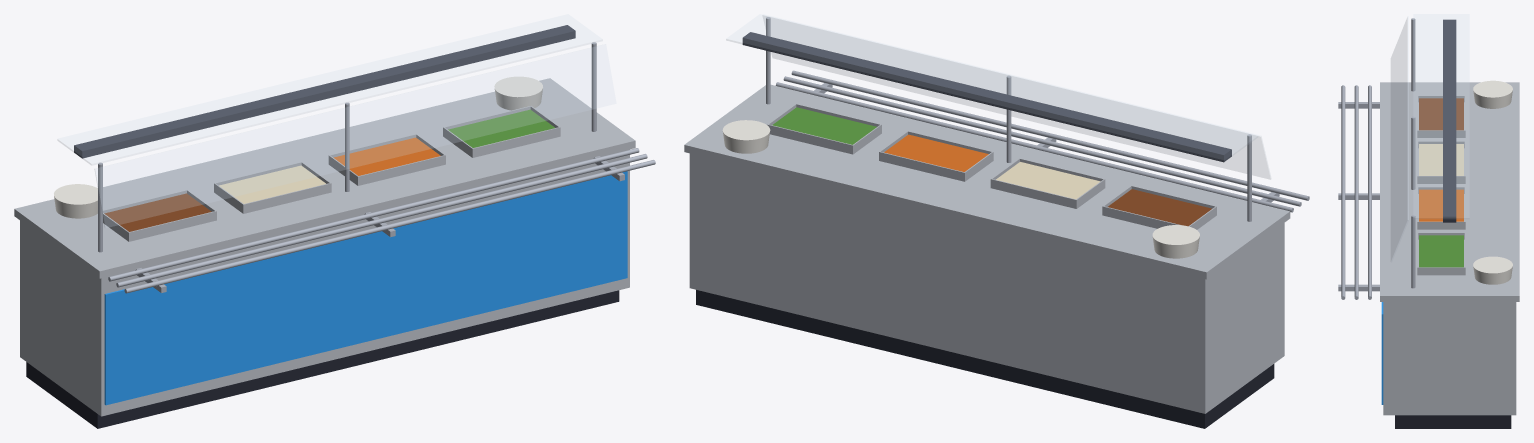
File: sch-040.glb
3 renders of one model, left to right at view 1: azimuth 30°, elevation 25°; view 2: azimuth 150°, elevation 25°; view 3: azimuth 270°, elevation 25°, orthographic. The views are drawn at different scales.
Parts seen in each view (by area): view 1: front_panel, top, guard_pane, body, guard_shelf, food (×4), heat_lamp, plinth, pan_side_2 (×4), tray_slide_3, tray_slide_1, tray_slide_2 (+2 smaller); view 2: body, top, guard_shelf, guard_pane, plinth, food (×4), heat_lamp, pan_side_1 (×4), tray_slide_2, tray_slide_3, tray_slide_1, plate_stack_2 (+1 smaller); view 3: top, body, guard_shelf, food (×4), guard_pane, heat_lamp, plinth, pan_end_2 (×4), tray_slide_2, tray_slide_3, plate_stack_2, plate_stack_1 (+9 smaller).
Part boxes in pixels (x1,y1,x2,y2): front_panel: [104, 171, 627, 405]; top: [14, 78, 635, 278]; guard_pane: [95, 44, 615, 227]; body: [20, 149, 629, 416]; guard_shelf: [58, 14, 602, 164]; food (×4): [104, 109, 554, 231]; heat_lamp: [74, 25, 575, 158]; plinth: [26, 290, 619, 428]; pan_side_2 (×4): [130, 127, 559, 240]; tray_slide_3: [124, 160, 655, 293]; tray_slide_1: [108, 148, 639, 281]; tray_slide_2: [116, 154, 647, 287]; body: [689, 153, 1284, 413]; top: [684, 84, 1290, 279]; guard_shelf: [726, 14, 1257, 161]; guard_pane: [763, 14, 1270, 179]; plinth: [696, 290, 1274, 428]; food (×4): [772, 107, 1211, 226]; heat_lamp: [742, 32, 1231, 162]; pan_side_1 (×4): [768, 124, 1181, 228]; tray_slide_2: [783, 76, 1301, 206]; tray_slide_3: [791, 70, 1309, 200]; tray_slide_1: [775, 82, 1293, 212]; plate_stack_2: [722, 120, 770, 153]; top: [1380, 82, 1519, 301]; body: [1383, 302, 1516, 415]; guard_shelf: [1414, 14, 1468, 218]; food (×4): [1419, 98, 1463, 267]; guard_pane: [1391, 16, 1408, 261]; heat_lamp: [1443, 19, 1456, 222]; plinth: [1395, 415, 1511, 428]; pan_end_2 (×4): [1417, 130, 1465, 275]; tray_slide_2: [1354, 85, 1358, 299]; tray_slide_3: [1341, 85, 1345, 299]; plate_stack_2: [1473, 256, 1512, 284]; plate_stack_1: [1473, 80, 1512, 108].
Size of the model in its own units: 3.04 by 1.39 by 1.09.
